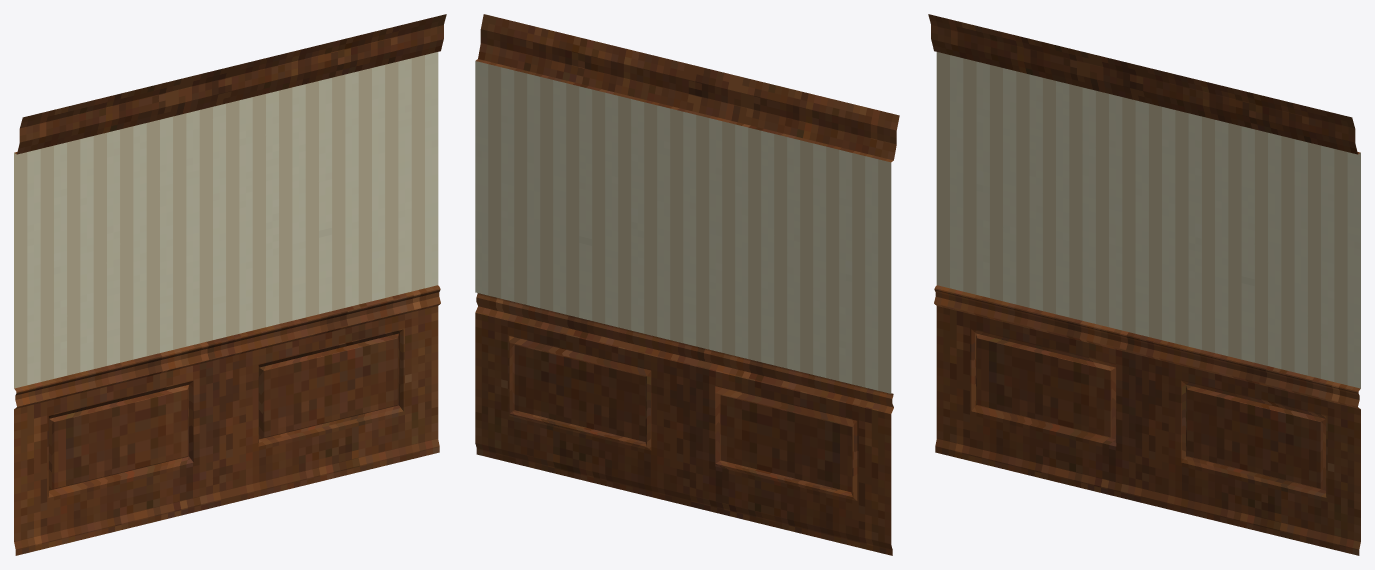
File: Wall.glb
3 renders of one model, left to right at view 1: azimuth 30°, elevation 25°; view 2: azimuth 150°, elevation 25°; view 3: azimuth 330°, elevation 25°, orthographic.
Parts seen in each view (by area): view 1: Plane; view 2: Plane; view 3: Plane.
Boxes of the visible parts, box(x1,y1,x2,y2) form: Plane: box(14, 14, 446, 555); Plane: box(475, 14, 899, 555); Plane: box(928, 14, 1360, 555).
Bounding box in the file's own units: 3 × 3 × 0.1327.
2 materials, 2 textured.
